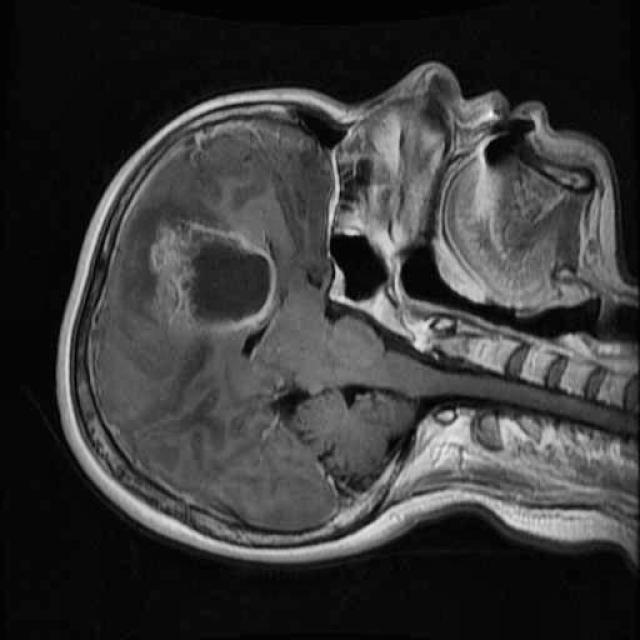Tumor: (131, 210, 288, 351)
